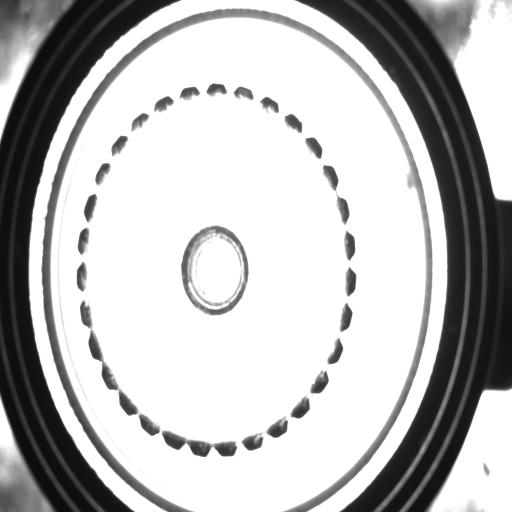gear: (69, 78, 363, 461)
